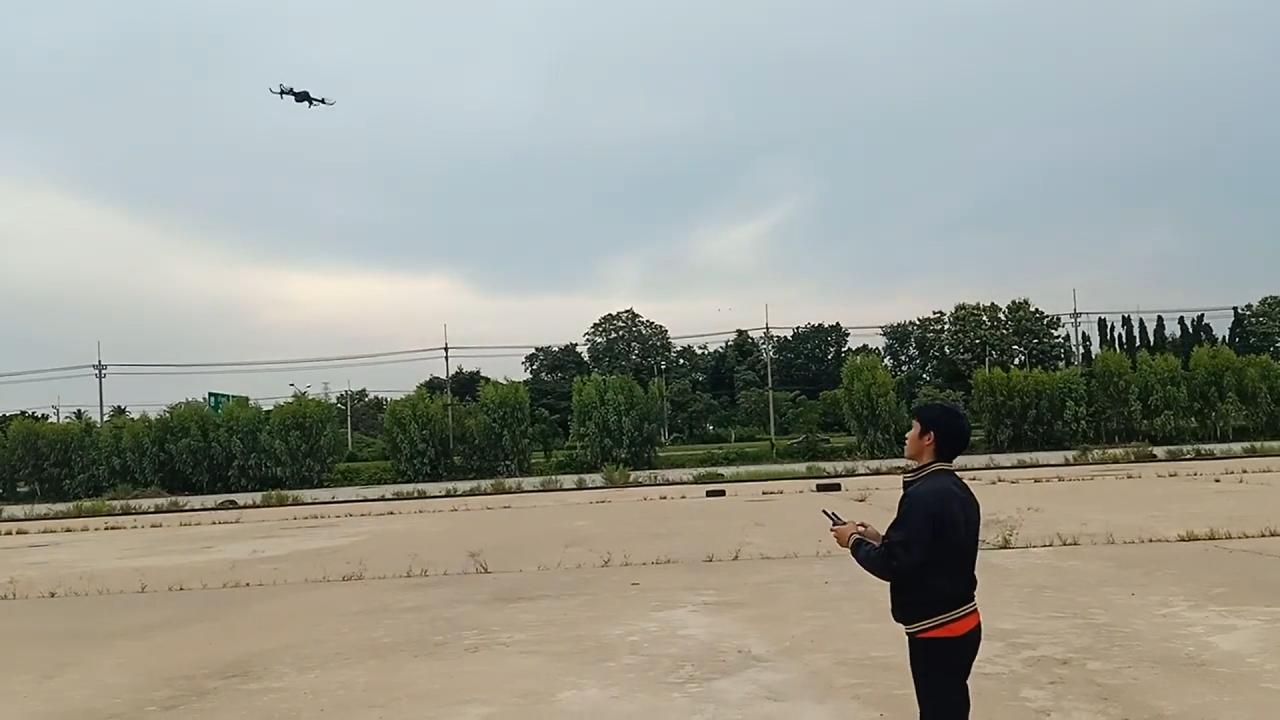Drone: (258, 67, 343, 123)
